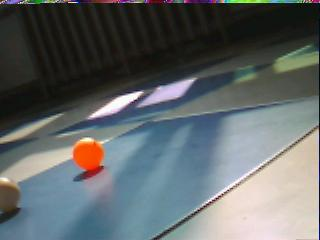oball: (73, 138, 104, 171)
